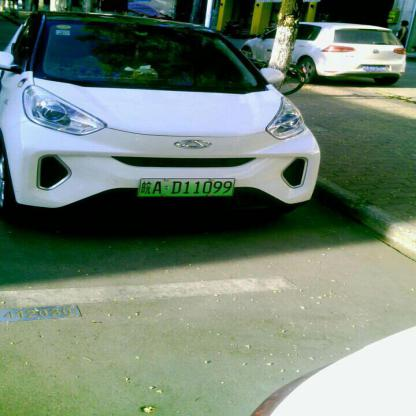lp: (138, 177, 235, 196)
